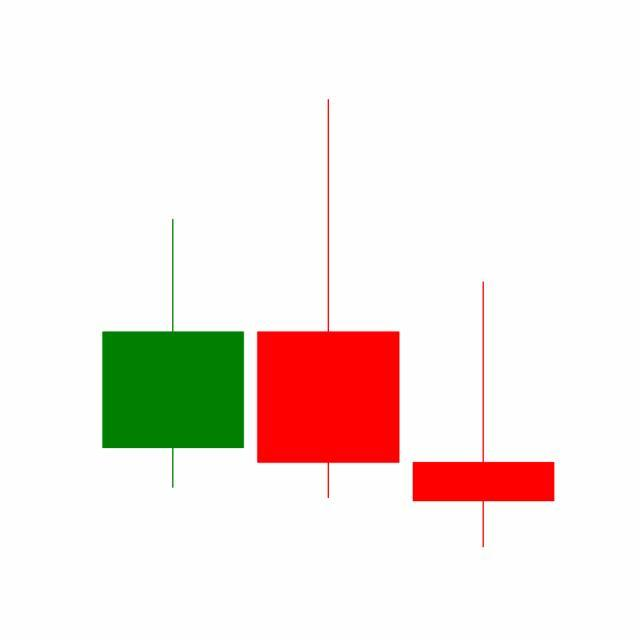Spinning Top: (406, 279, 562, 551)
